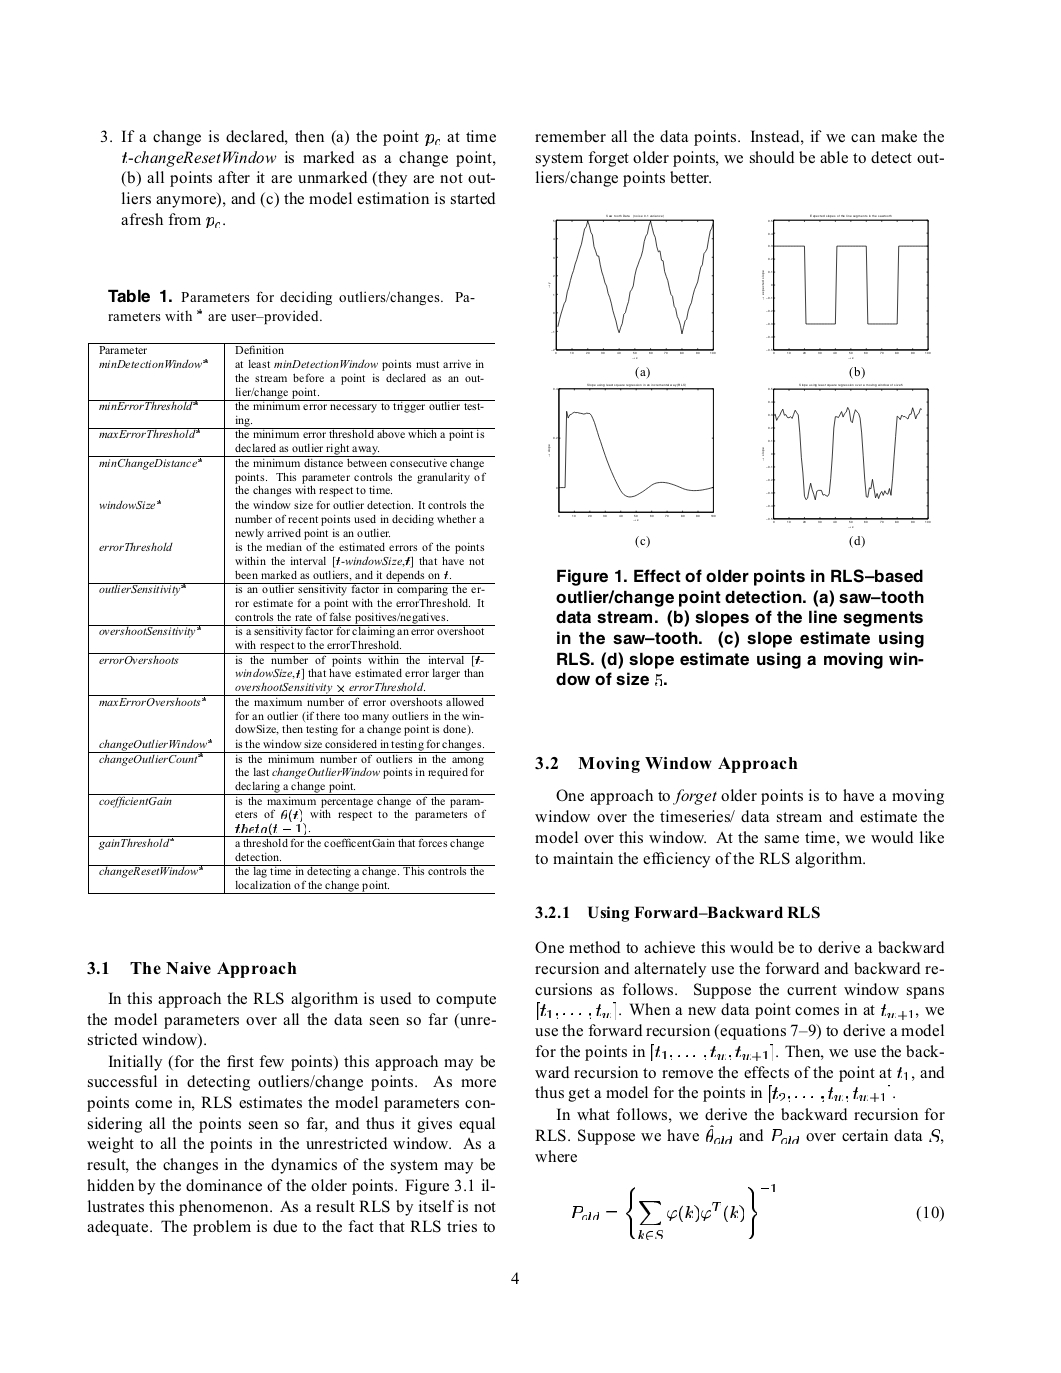Table: (88, 342, 494, 894)
figure: (548, 214, 716, 353), (765, 216, 929, 357), (762, 383, 929, 522), (548, 384, 716, 520)
formula: (572, 1184, 943, 1240)
